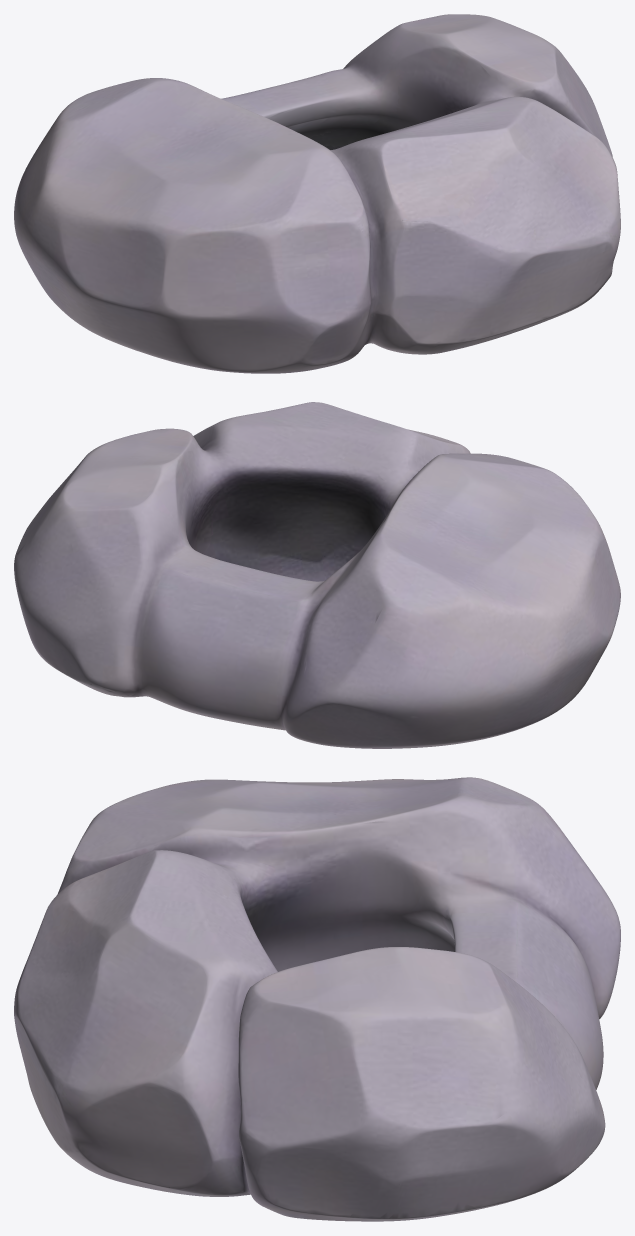
File: mirror_base.glb
3 renders of one model, top to bottom at view 1: azimuth 30°, elevation 25°; view 2: azimuth 150°, elevation 25°; view 3: azimuth 270°, elevation 25°, orthographic. The views are drawn at different scales.
Visible parts, largest first — view 1: node_0; view 2: node_0; view 3: node_0.
Boxes of the visible parts, x1,y1,x2,y2 form: node_0: (14,14,620,373); node_0: (14,402,620,748); node_0: (14,777,620,1221).
Size of the model in its own units: 1.16 by 0.3623 by 0.9137.
1 material, 1 textured.
